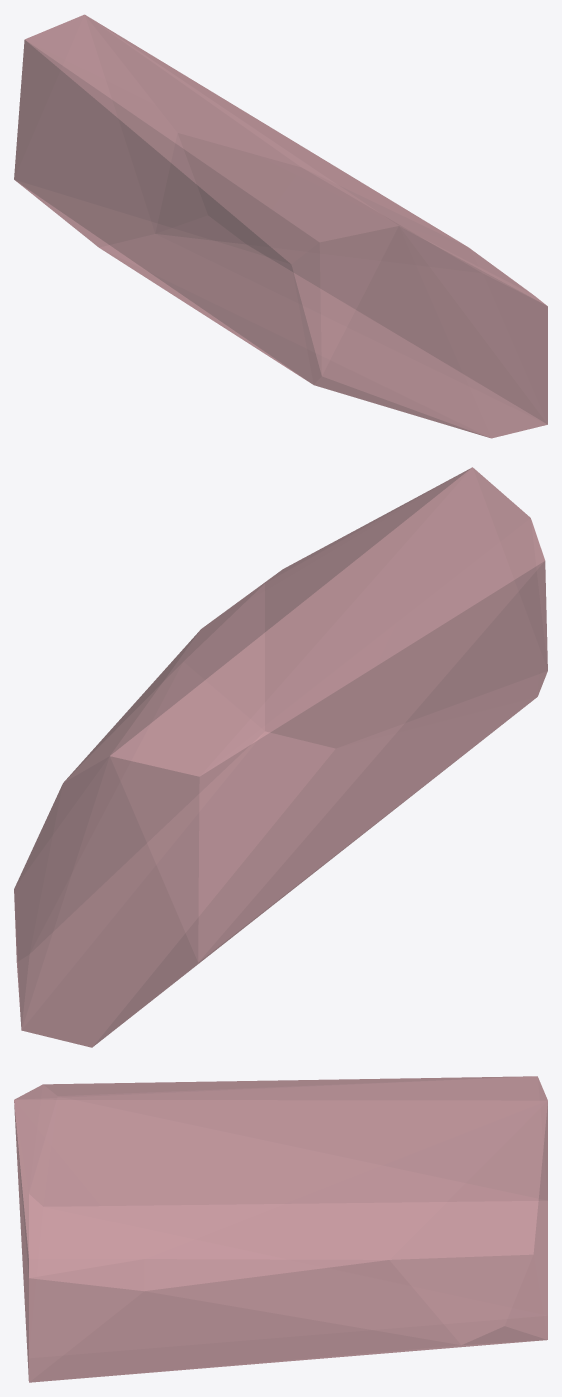
3 renders of one model, top to bottom at view 1: azimuth 30°, elevation 25°; view 2: azimuth 150°, elevation 25°; view 3: azimuth 270°, elevation 25°, orthographic. The views are drawn at different scales.
Parts seen in each view (by area): view 1: Shape_IndexedFaceSet.004_Shape_IndexedFaceSet.4823; view 2: Shape_IndexedFaceSet.004_Shape_IndexedFaceSet.4823; view 3: Shape_IndexedFaceSet.004_Shape_IndexedFaceSet.4823.
Boxes of the visible parts, bbox=[...] form: Shape_IndexedFaceSet.004_Shape_IndexedFaceSet.4823: bbox=[14, 14, 547, 438]; Shape_IndexedFaceSet.004_Shape_IndexedFaceSet.4823: bbox=[14, 467, 547, 1047]; Shape_IndexedFaceSet.004_Shape_IndexedFaceSet.4823: bbox=[14, 1076, 547, 1382].
Bounding box in the file's own units: 0.1552 × 0.1502 × 0.3381.
